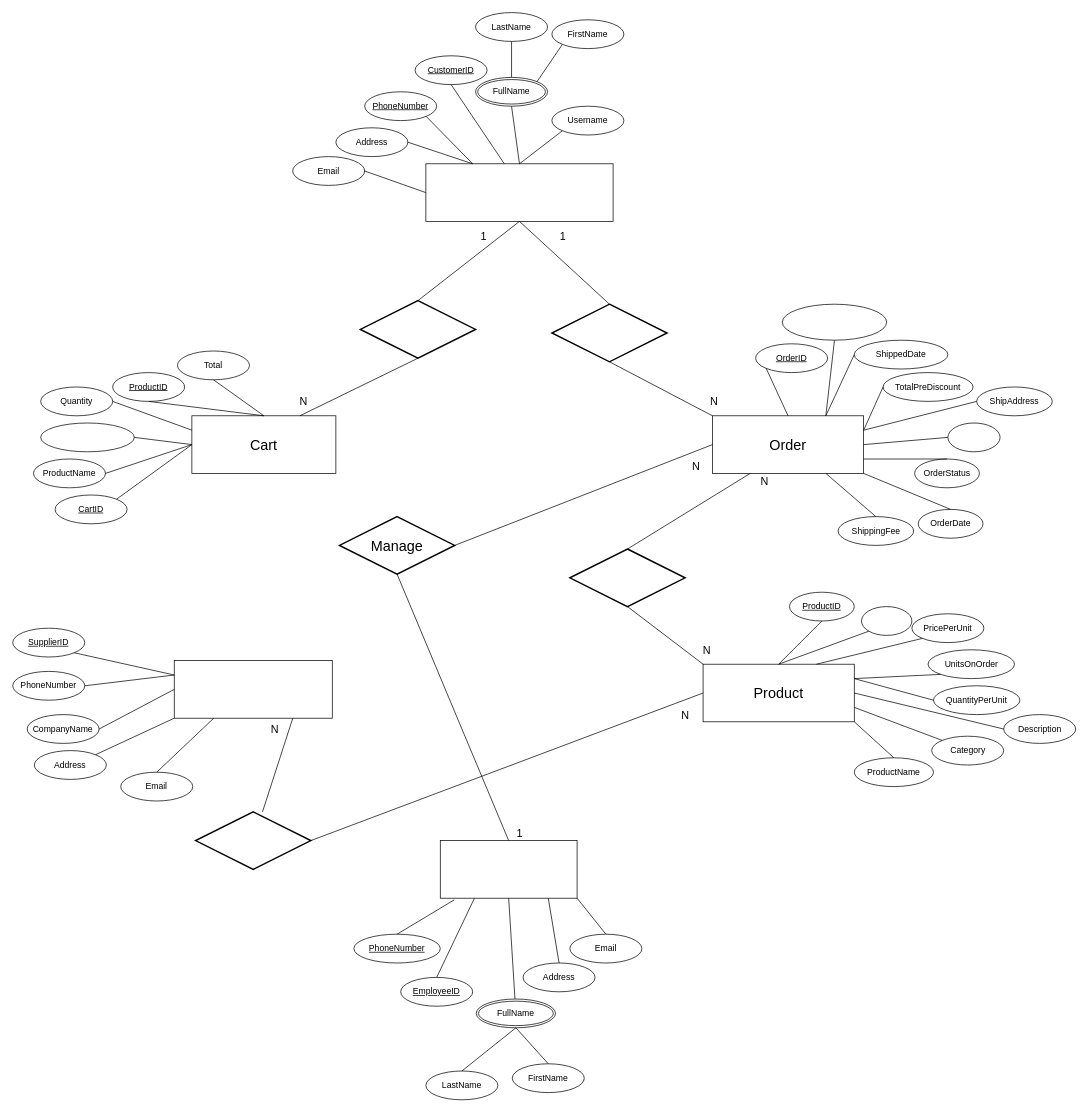
Image size: 1089x1112. Some labels were removed from this diagram. The shapes that lost their labels are listed below. From the top down, each one's box as (x1, y1, x2, y2) in pixels, then its label:
(425, 163, 613, 221): Customer
(359, 300, 476, 359): Own
(551, 303, 667, 362): Arrange
(782, 303, 887, 340): TotalPostDiscount
(40, 422, 134, 452): ProductQuantity
(947, 422, 1000, 452): Tax
(569, 548, 685, 607): Contain
(861, 606, 912, 635): Size
(174, 660, 332, 718): Supplier
(195, 811, 311, 870): Supply
(440, 840, 577, 898): Employee
